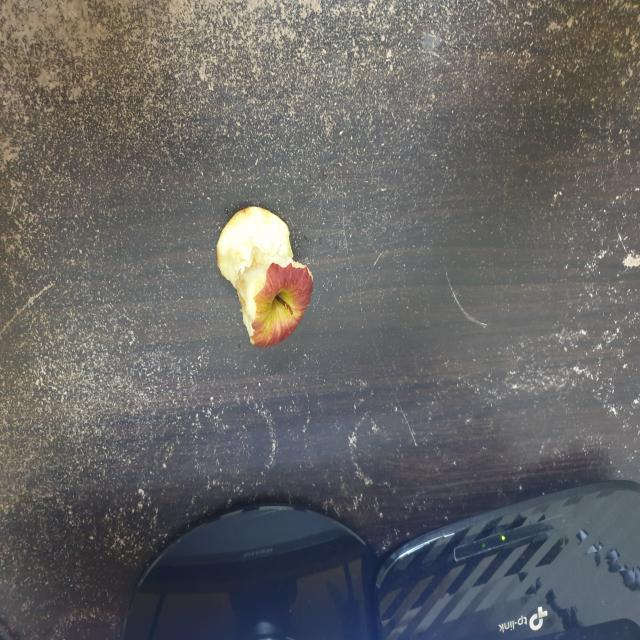apple: (206, 196, 321, 355)
